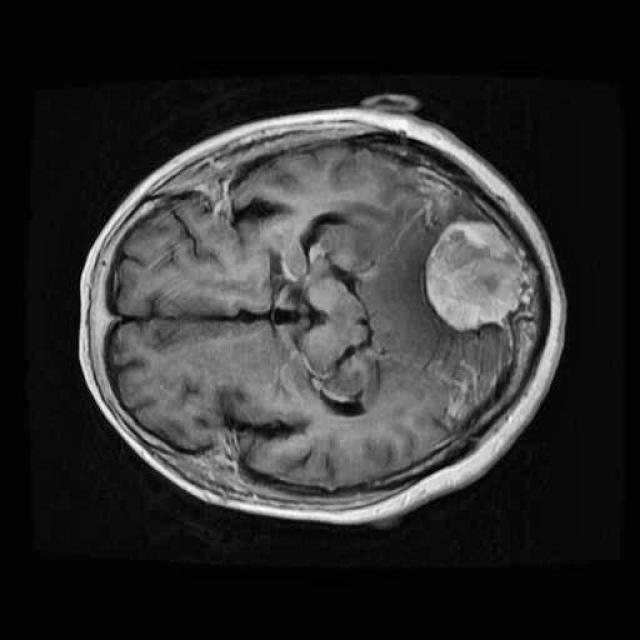Tumor: (410, 201, 551, 350)
